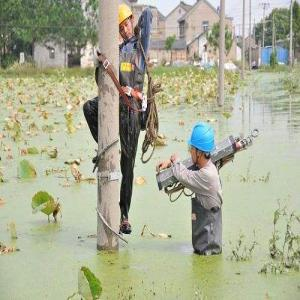blue: (189, 124, 217, 167)
yellow: (117, 2, 136, 42)
